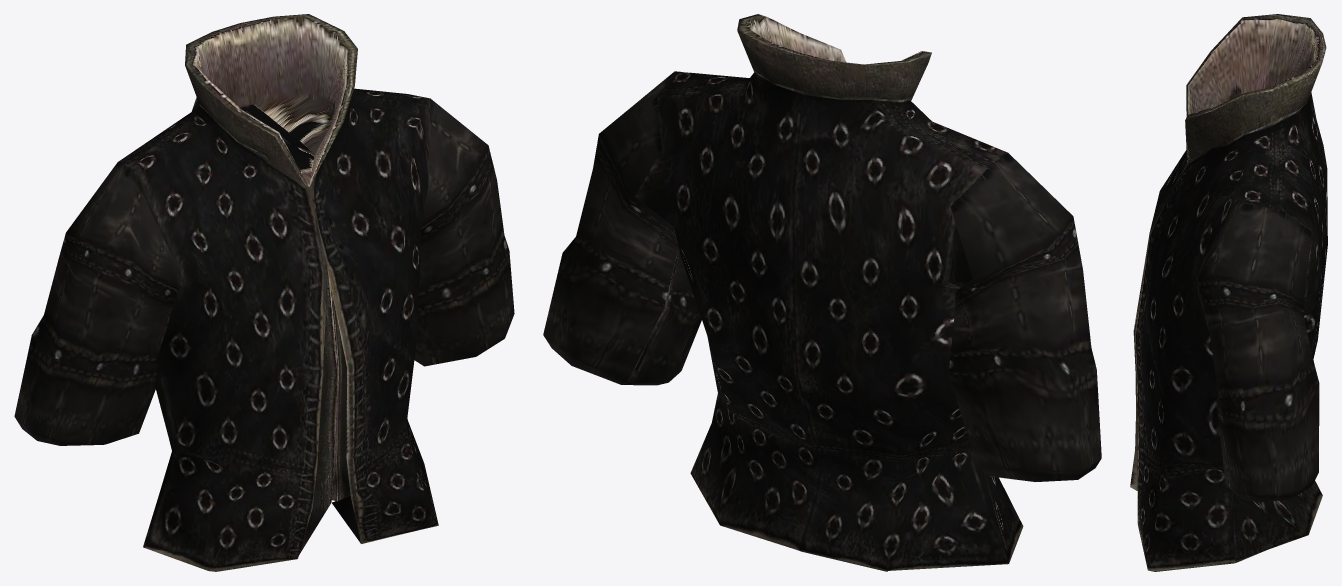
File: STATIC_GS_ARMOR_GERALT_ADDON_GRD1.glb
3 renders of one model, left to right at view 1: azimuth 30°, elevation 25°; view 2: azimuth 150°, elevation 25°; view 3: azimuth 270°, elevation 25°, orthographic. The views are drawn at different scales.
Visible parts, largest first — view 1: Mesh; view 2: Mesh; view 3: Mesh.
Boxes of the visible parts, x1=… form: Mesh: x1=14, y1=14, x2=514, y2=571; Mesh: x1=543, y1=14, x2=1101, y2=571; Mesh: x1=1130, y1=14, x2=1327, y2=571.
Bounding box in the file's own units: 0.6861 × 0.6376 × 0.2414.
Materials: 1 (1 with a texture image).
